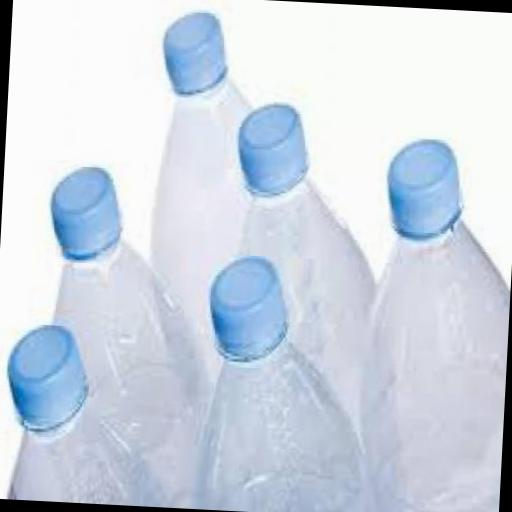plastic: (351, 136, 512, 512), (222, 98, 386, 436), (144, 8, 288, 390), (193, 251, 385, 512), (38, 162, 221, 428), (0, 323, 187, 506), (204, 250, 289, 362), (4, 320, 88, 431), (384, 134, 464, 240), (46, 163, 124, 260), (234, 100, 310, 194), (159, 8, 228, 97)
